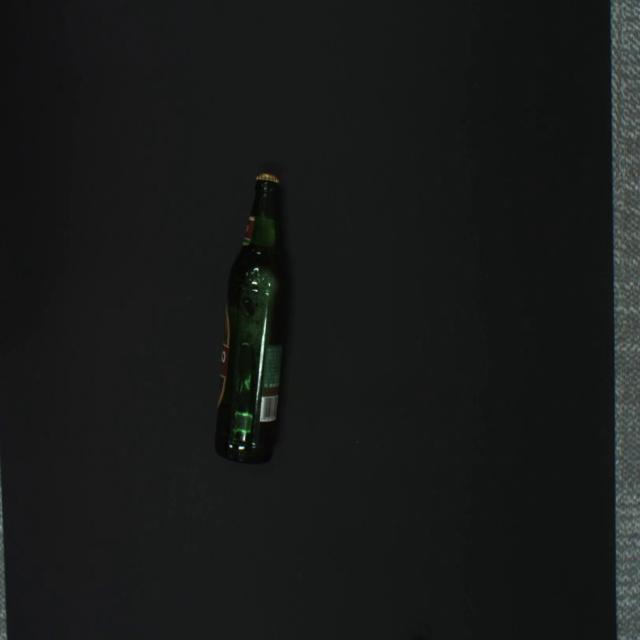beer-bottle: (214, 173, 288, 466)
